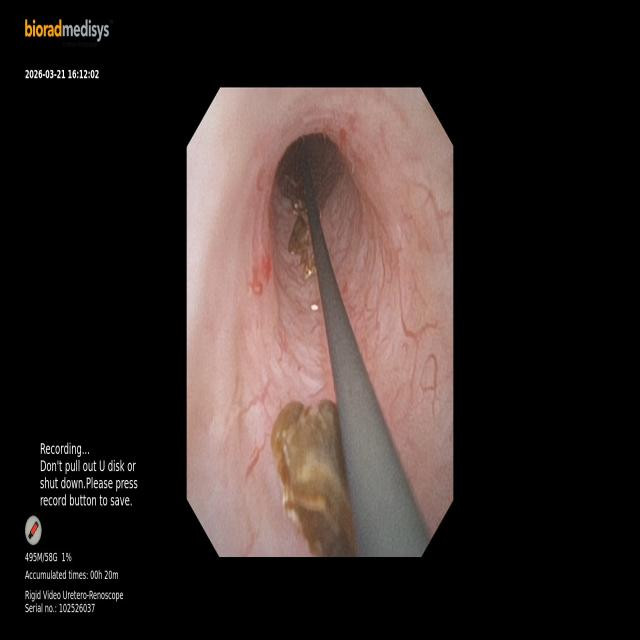stone-new: (271, 399, 356, 556), (288, 212, 314, 277)
